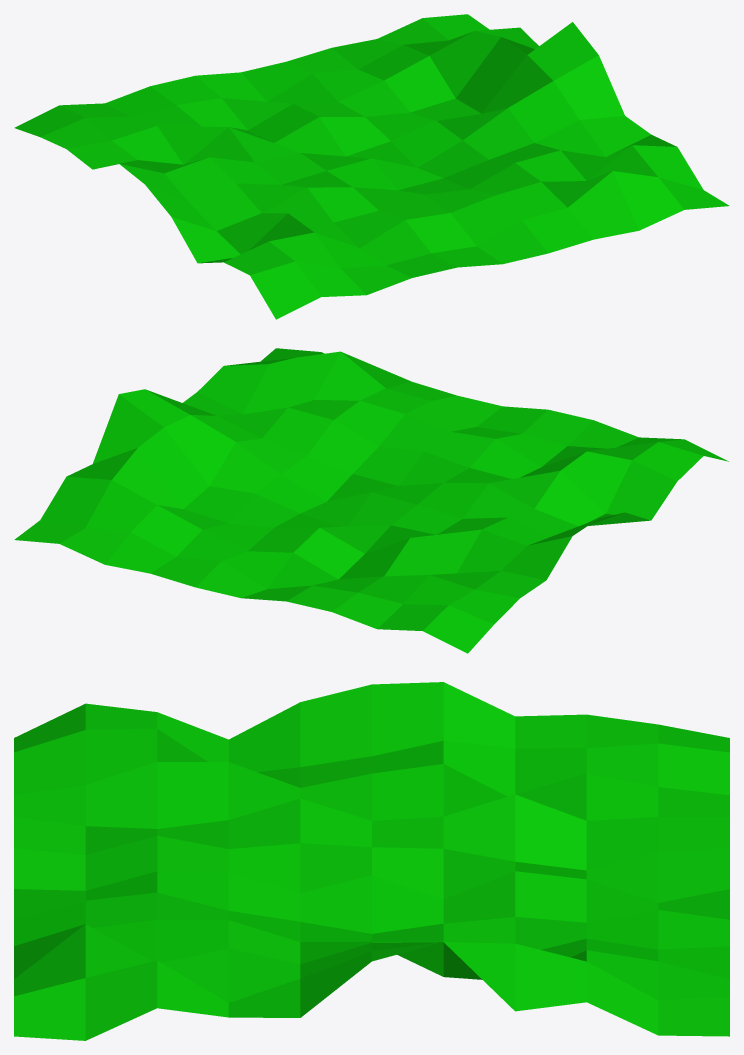
The model's file is terrain.fbx.
3 renders of one model, top to bottom at view 1: azimuth 30°, elevation 25°; view 2: azimuth 150°, elevation 25°; view 3: azimuth 270°, elevation 25°, orthographic. The views are drawn at different scales.
Visible parts, largest first — view 1: Plane; view 2: Plane; view 3: Plane.
Part boxes in pixels (x1,y1,x2,y2): Plane: (14, 14, 729, 319); Plane: (14, 348, 728, 653); Plane: (14, 682, 729, 1040).
Size of the model in its own units: 2000 by 348 by 2000.
